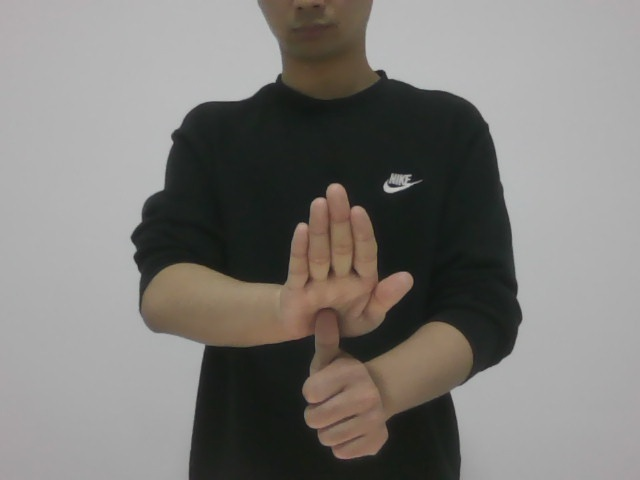love: (275, 178, 417, 462)
